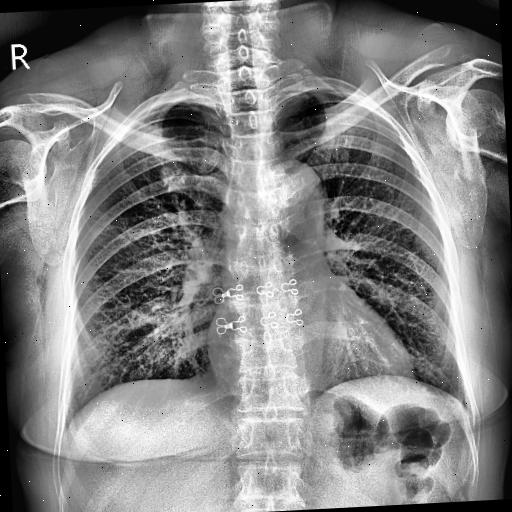0- Aortic enlargement: (264, 159, 325, 236), (268, 157, 328, 224), (260, 160, 324, 212)
